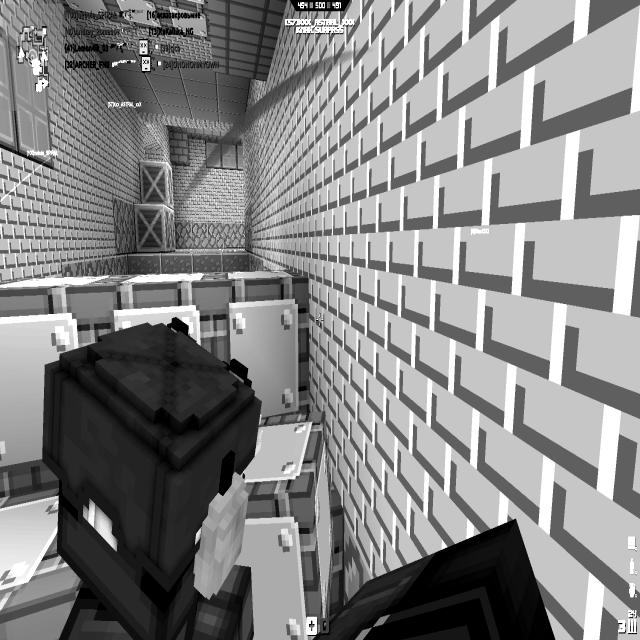Head: (45, 321, 262, 632)
